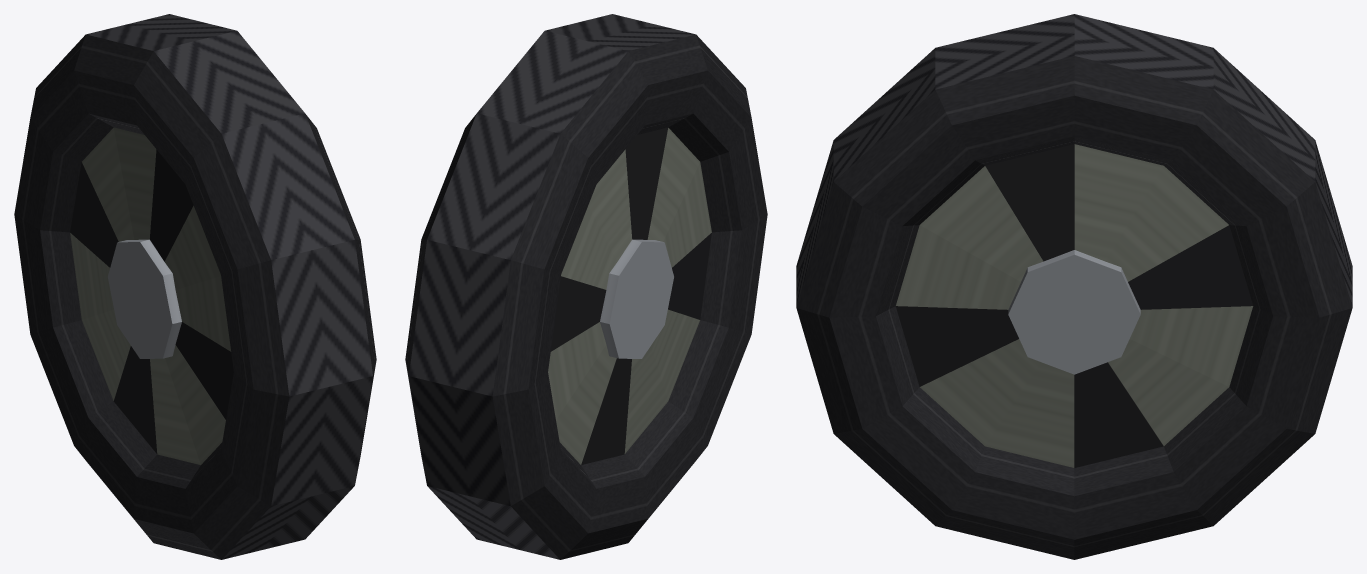
The model's file is pod_scooter_wheel.fbx.
The picture shows the model from 3 angles, left to right: view 1: azimuth 30°, elevation 25°; view 2: azimuth 150°, elevation 25°; view 3: azimuth 270°, elevation 25°; orthographic projection. The views are drawn at different scales.
Parts seen in each view (by area): view 1: pod_scooter_wheel; view 2: pod_scooter_wheel; view 3: pod_scooter_wheel.
Boxes of the visible parts, x1,y1,x2,y2 form: pod_scooter_wheel: (14,14,376,559); pod_scooter_wheel: (405,14,767,559); pod_scooter_wheel: (796,14,1352,559).
Size of the model in its own units: 11 by 42 by 42.
Materials: 1 (1 with a texture image).
